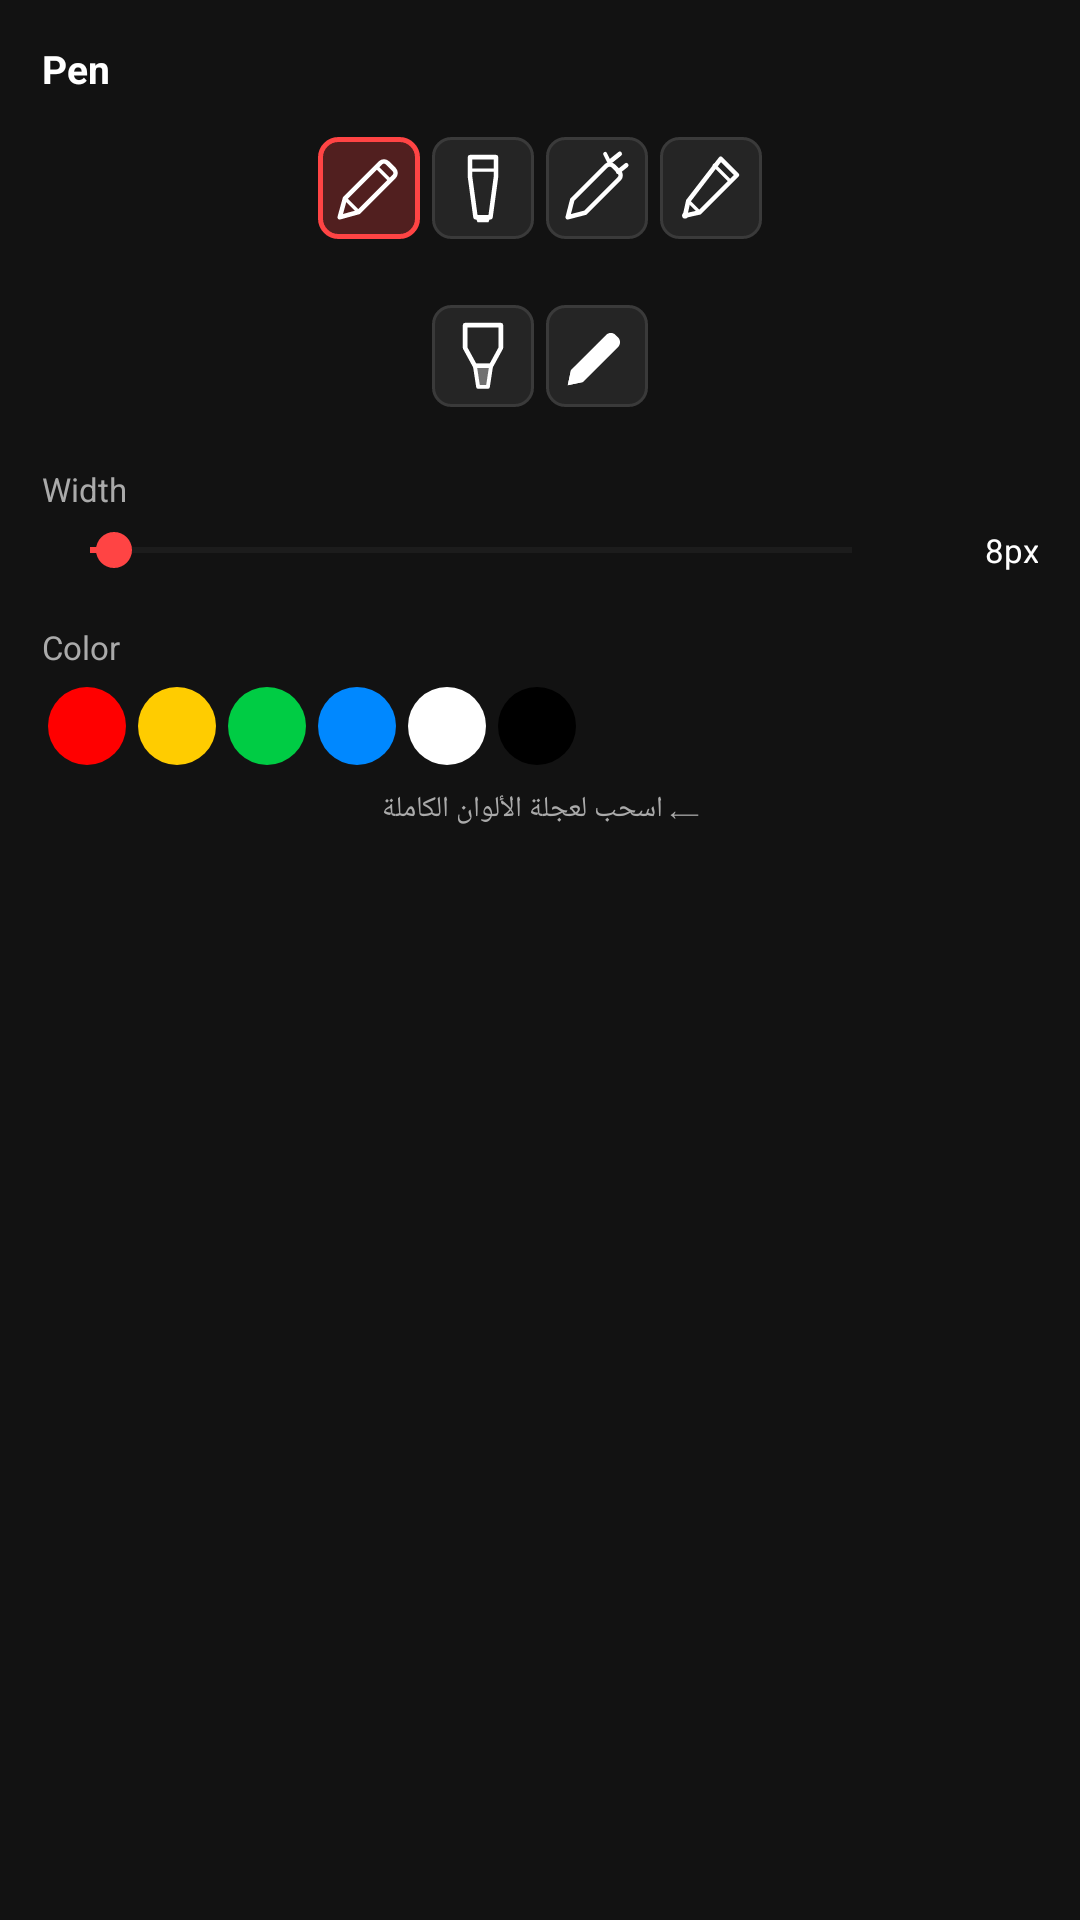

Screen size 1080x1920. Icon name, then its center in pixels as point (x, y):
nib calligraphy: point (597, 356)
nib highlighter: point (483, 356)
nib laser: point (597, 188)
nib pen: point (369, 188)
